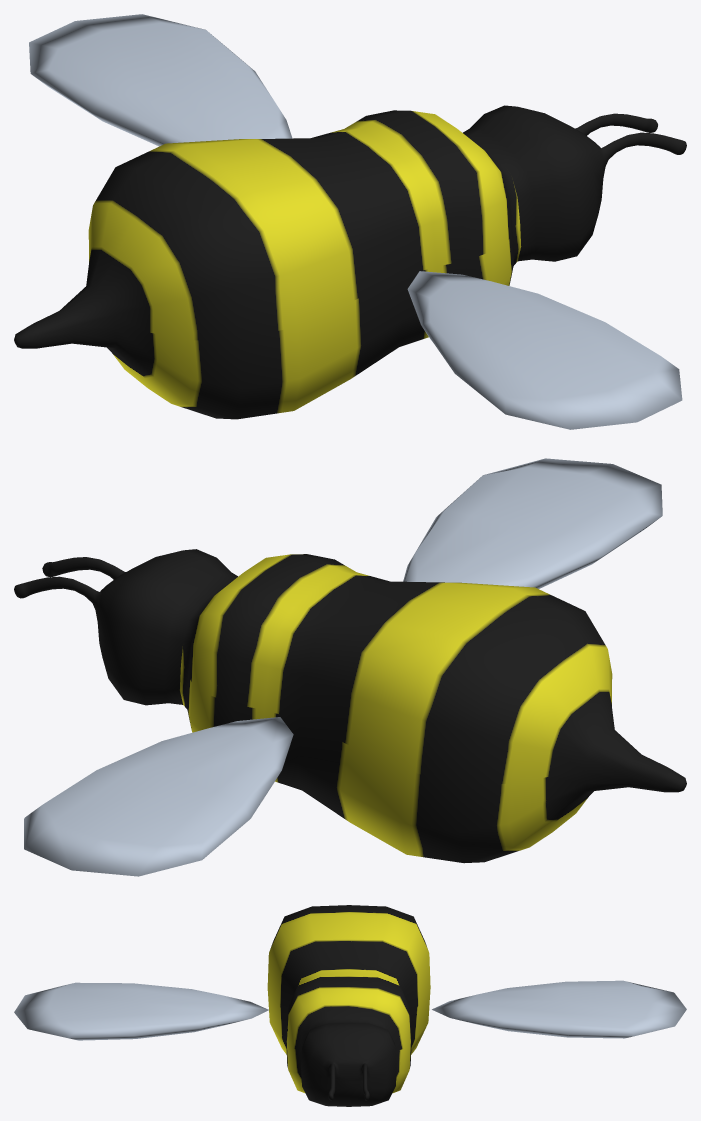
Rendered from BEEE.fbx.
3 views of the same model, one above another, from view 1: azimuth 30°, elevation 25°; view 2: azimuth 150°, elevation 25°; view 3: azimuth 270°, elevation 25° (orthographic). The views are drawn at different scales.
Parts seen in each view (by area): view 1: Cube, Cube.002, Cube.001; view 2: Cube, Cube.001, Cube.002; view 3: Cube, Cube.001, Cube.002.
Part boxes in pixels (<box>): Cube: <box>14,105,686,419</box>; Cube.002: <box>407,271,682,429</box>; Cube.001: <box>29,14,292,146</box>; Cube: <box>14,549,686,863</box>; Cube.001: <box>24,717,293,876</box>; Cube.002: <box>403,458,662,588</box>; Cube: <box>267,905,430,1106</box>; Cube.001: <box>432,980,686,1038</box>; Cube.002: <box>14,982,268,1040</box>.
Size of the model in its own units: 215 by 71.35 by 313.
Materials: 3 (3 with a texture image).
